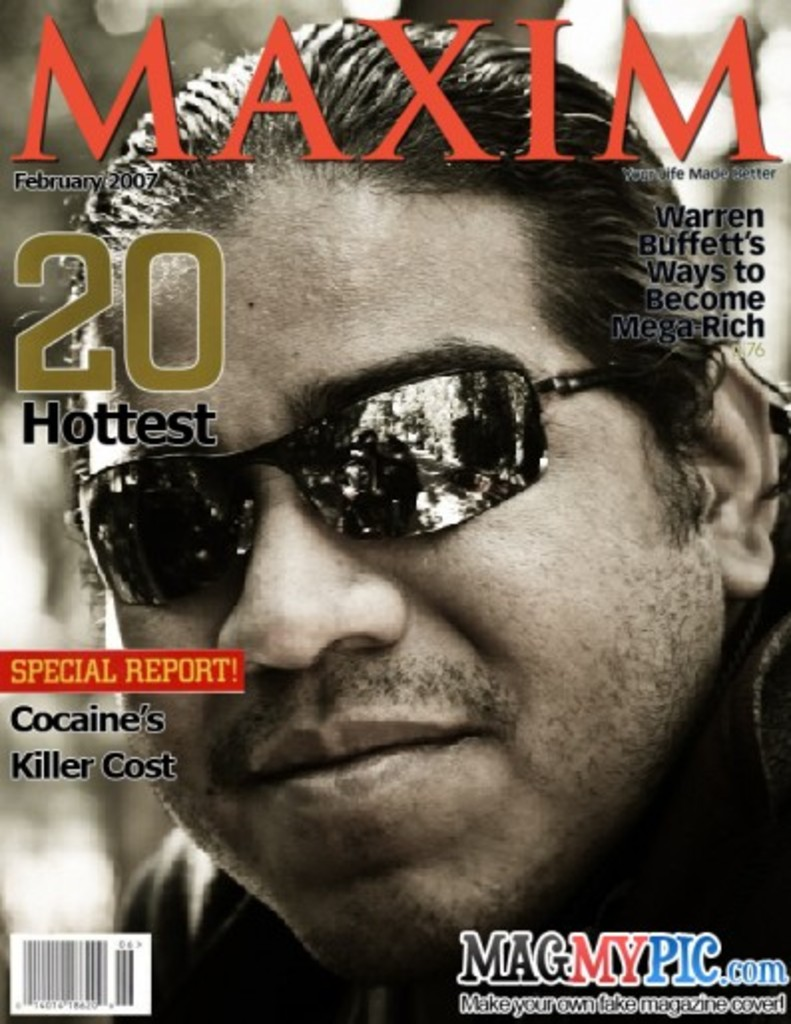Person: (12, 13, 790, 1022)
